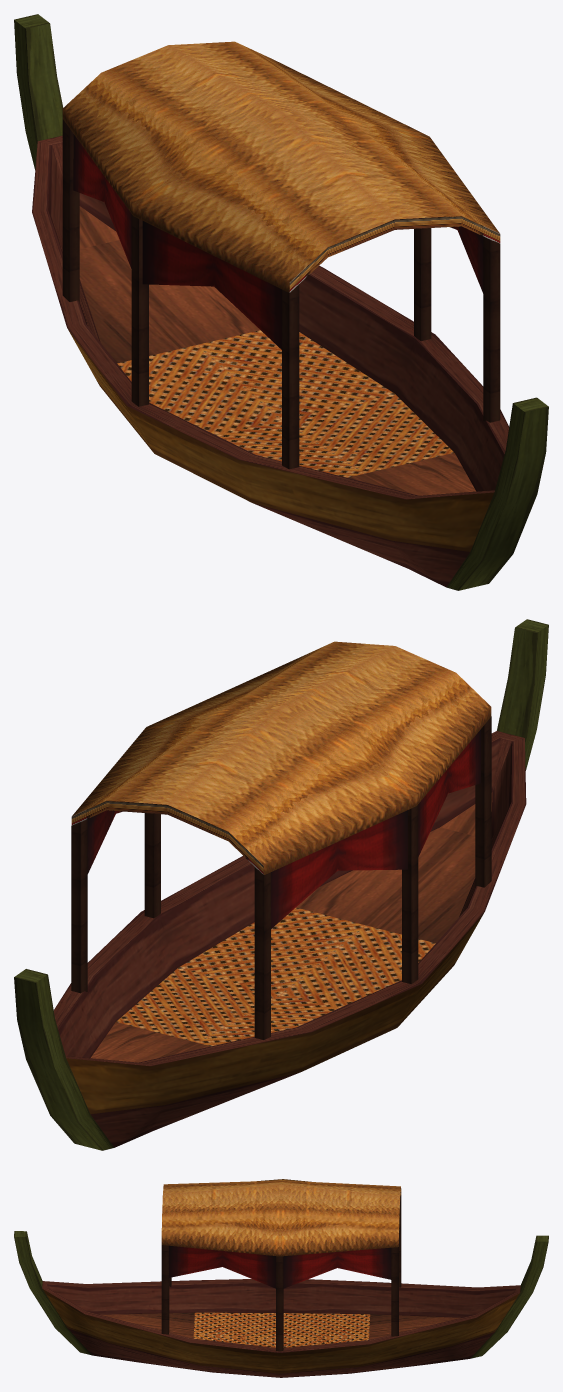
Rendered from ETC0610035.fbx.
3 views of the same model, one above another, from view 1: azimuth 30°, elevation 25°; view 2: azimuth 150°, elevation 25°; view 3: azimuth 270°, elevation 25° (orthographic). The views are drawn at different scales.
Visible parts, largest first — view 1: smETC0610035; view 2: smETC0610035; view 3: smETC0610035.
Part boxes in pixels (left/top/right/bottom): smETC0610035: left=14, top=14, right=548, bottom=590; smETC0610035: left=14, top=619, right=548, bottom=1150; smETC0610035: left=14, top=1179, right=548, bottom=1377.
Size of the model in its own units: 190 by 218 by 572.
1 material, 1 textured.
